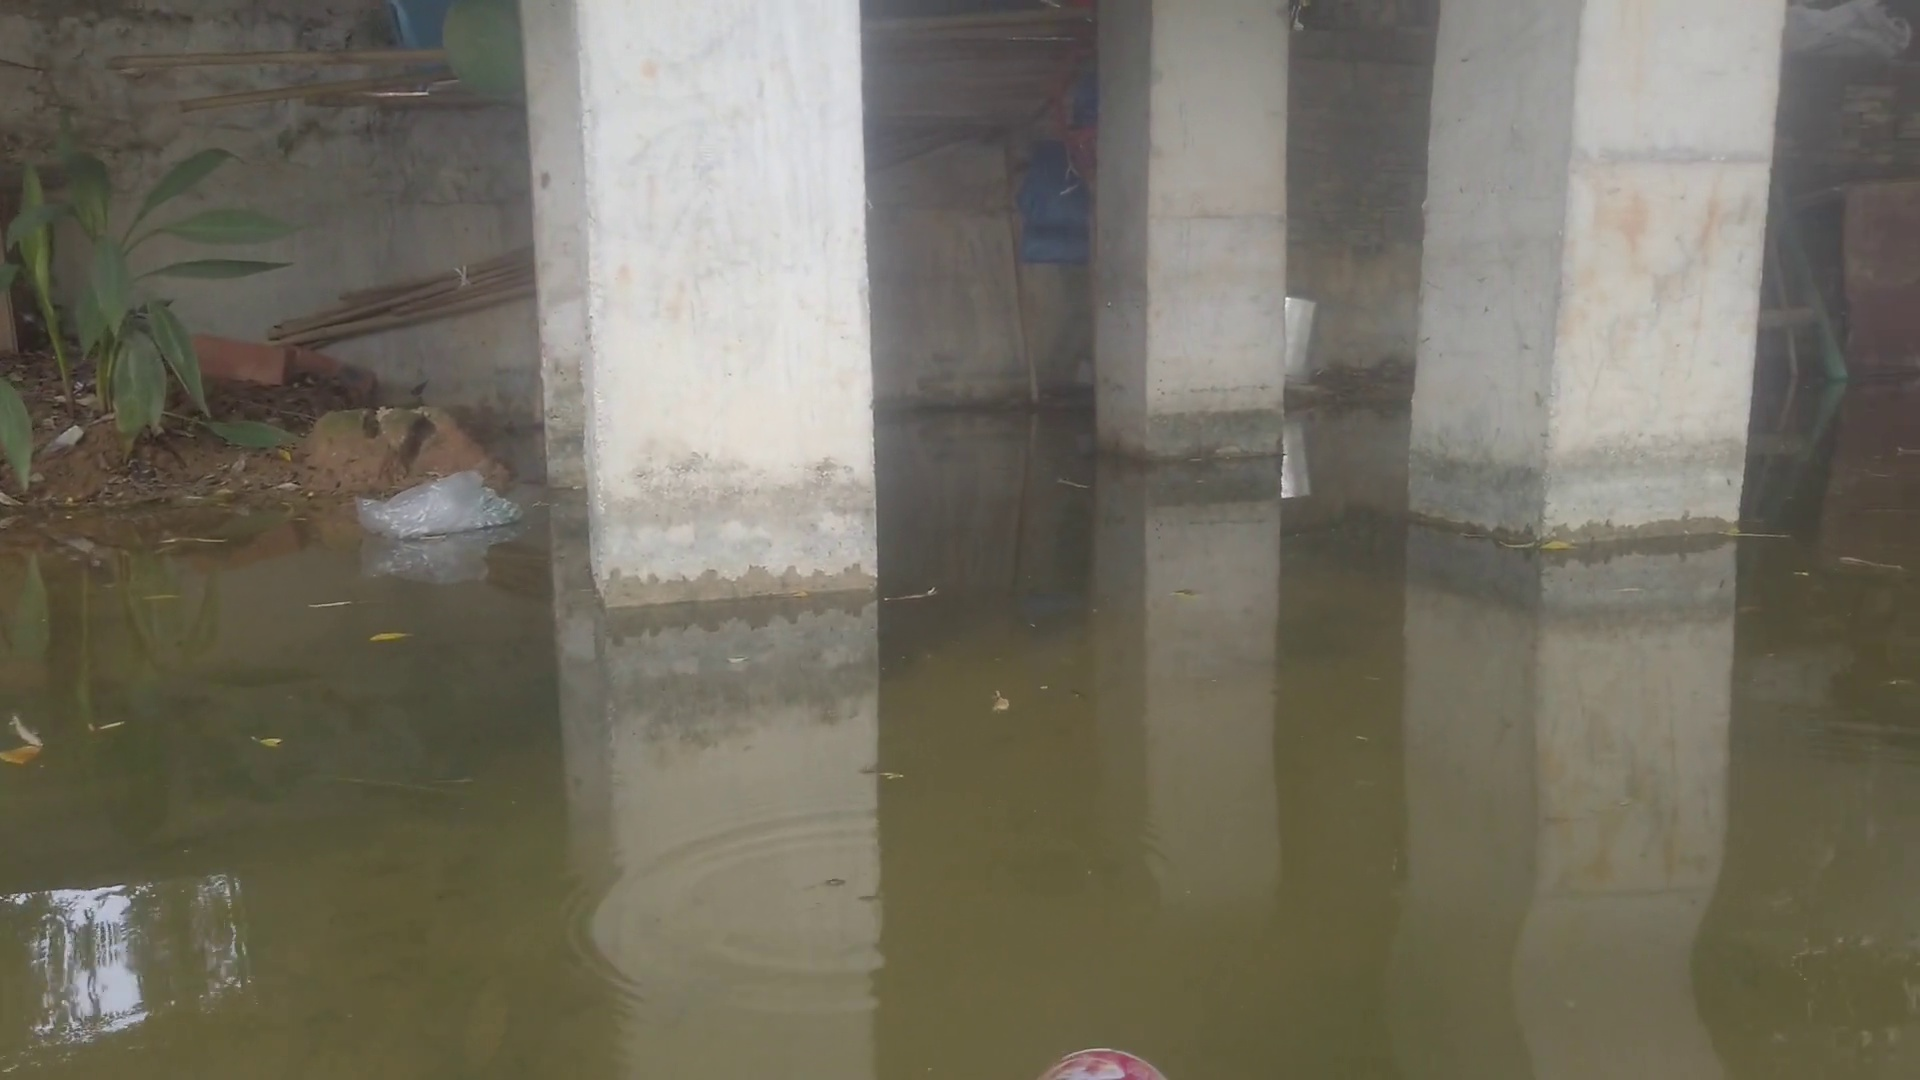bottle: (1036, 1046, 1182, 1080)
plastic: (353, 469, 526, 534)
